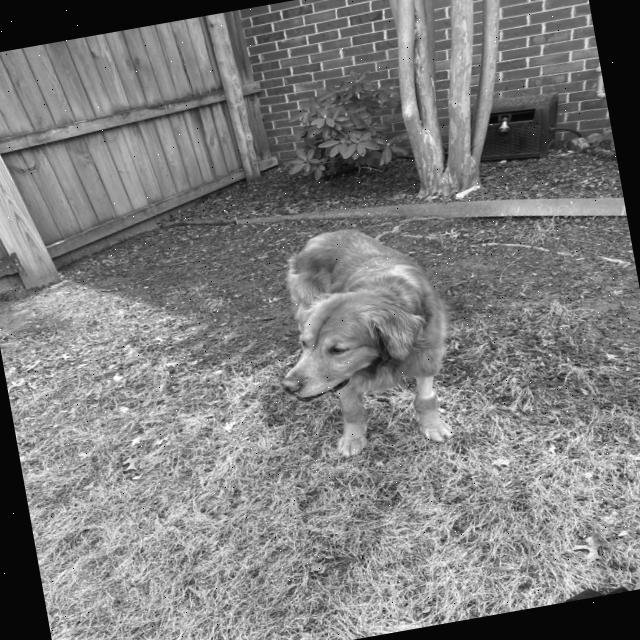golden_retriever_dog: (252, 264, 452, 416)
